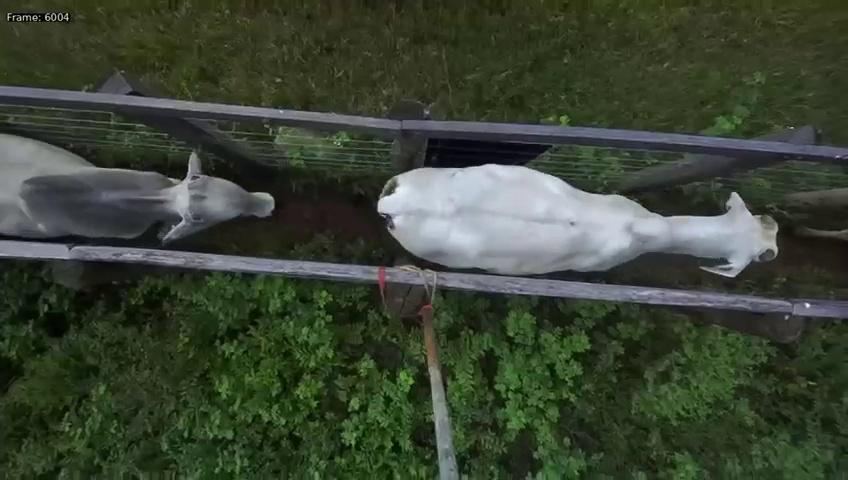cattle: (373, 156, 781, 279)
